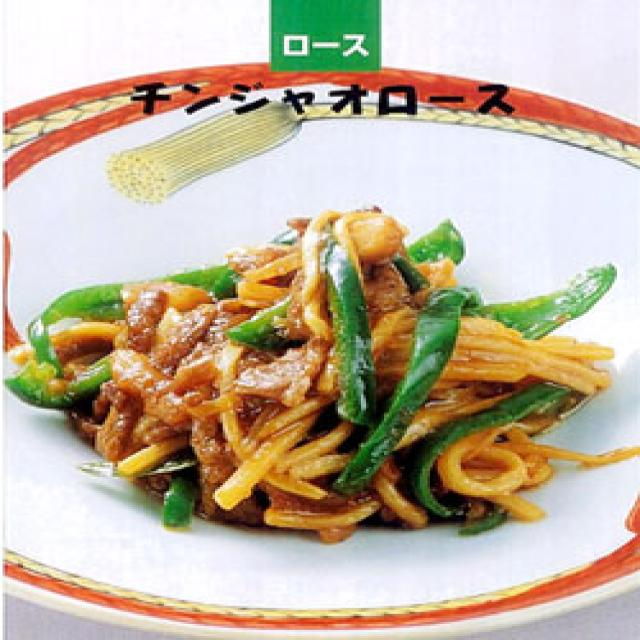牛肉菜式: (0, 187, 640, 544)
